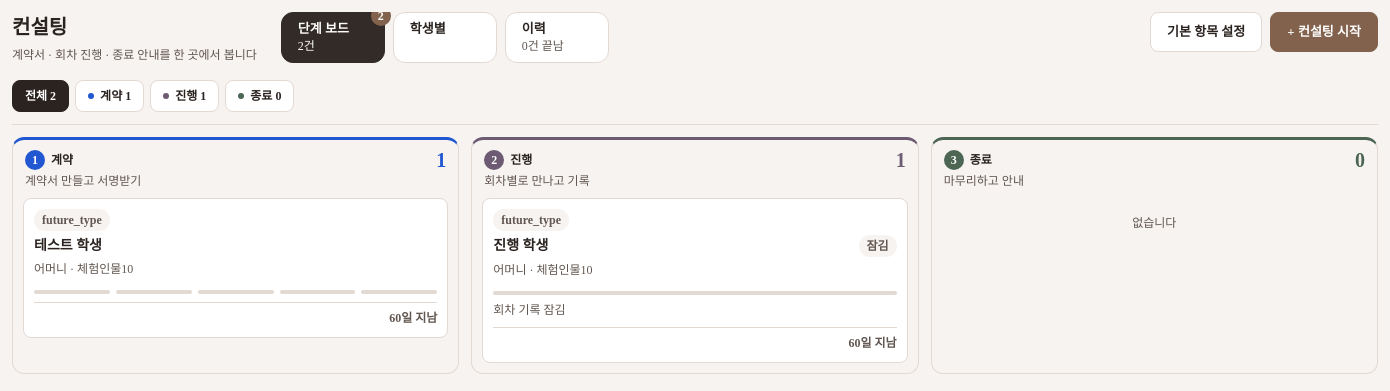
it: §26 조회 계약 통합 › 단계 선택은 표시만 바꾸고 전체 건수·잠긴 카드의 권한은 유지한다
Expected: the button "전체 2" is shown, x1=12 y1=80 x2=69 y2=112
Click the button "진행 1" at (185, 96), box x1=150 y1=80 x2=219 y2=112
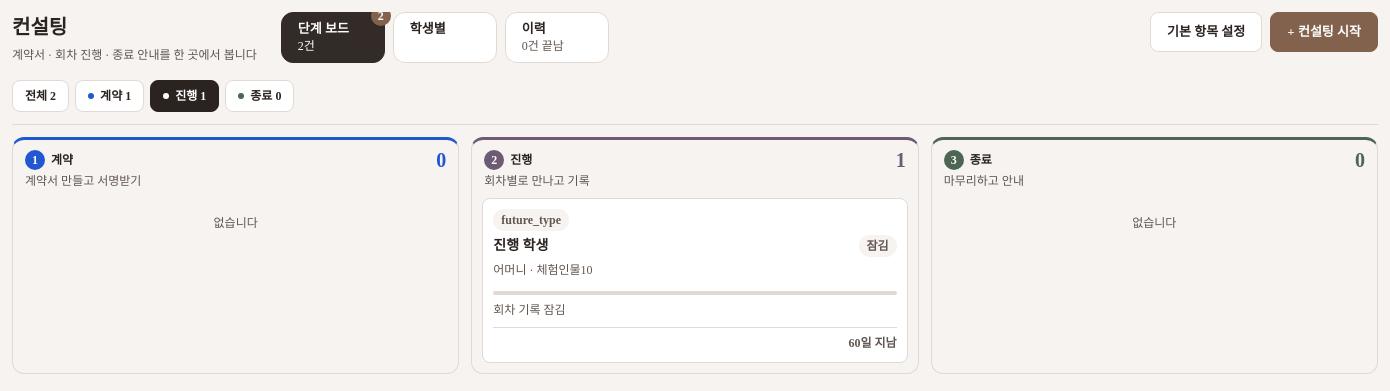
Expected: the button with aria-label "진행 학생 컨설팅 상세 잠김" is disabled, x1=493 y1=209 x2=897 y2=352
Click the button "종료 0" at (260, 96), box x1=225 y1=80 x2=294 y2=112
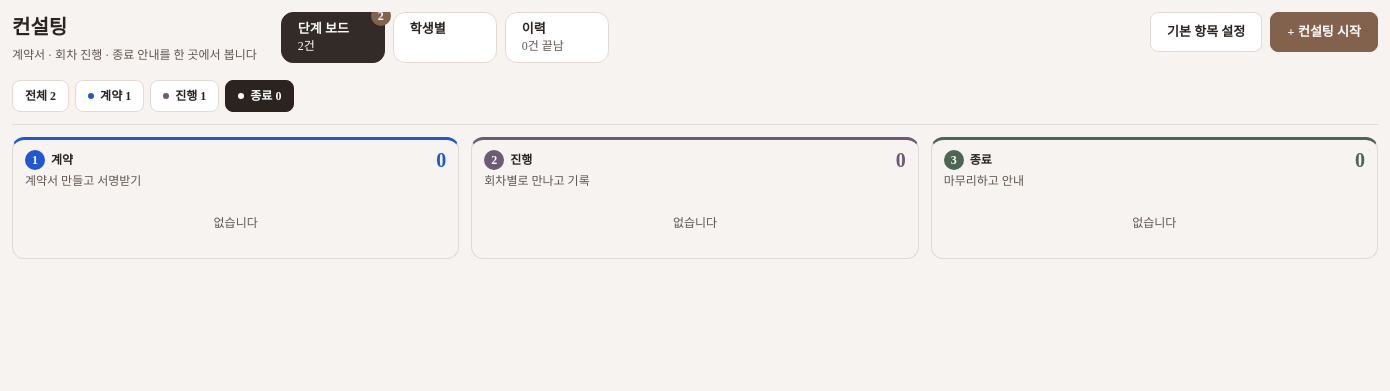
Click the button "전체 2" at (41, 96), box x1=12 y1=80 x2=69 y2=112
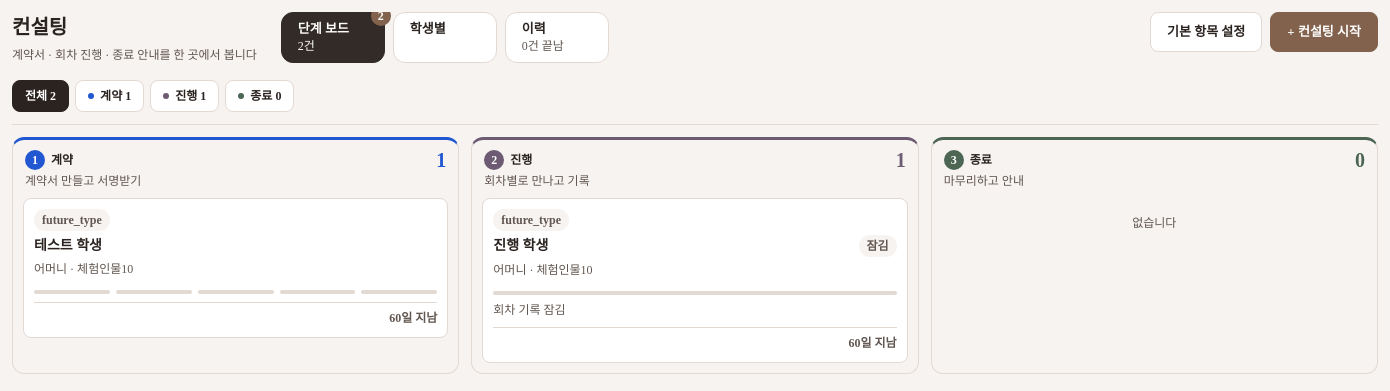
Expected: the button with aria-label "테스트 학생 컨설팅 상세" is shown, x1=34 y1=209 x2=437 y2=327
